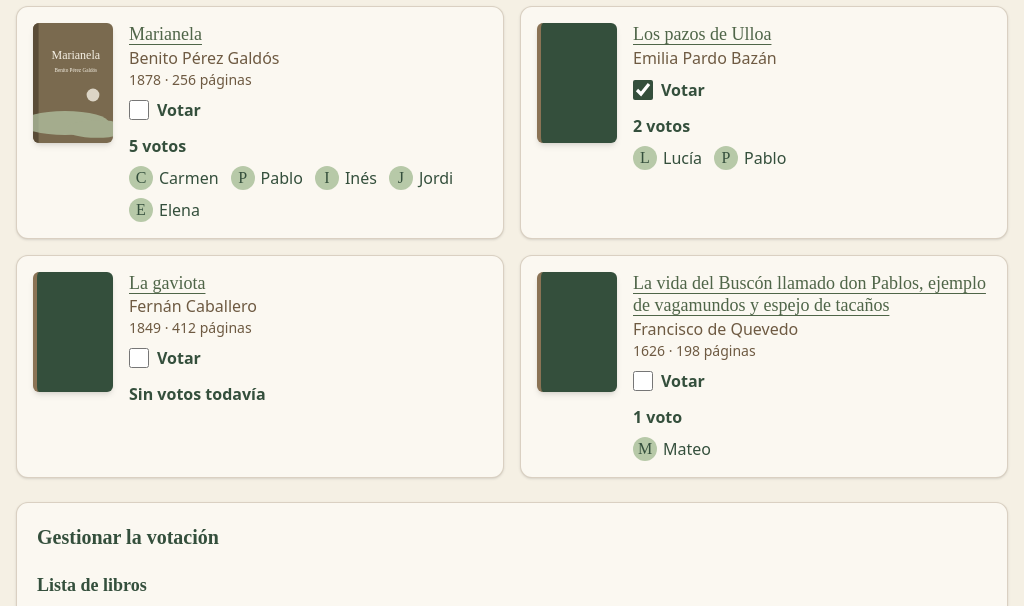
Scenario: Vote page: changing an approval › says calmly when the vote is no longer open and shows its closed state
(page scrolled)
Click the checkbox labelled "Votar" below "1849 · 412 páginas" at (139, 358), box [129, 348, 149, 368]
(page scrolled)
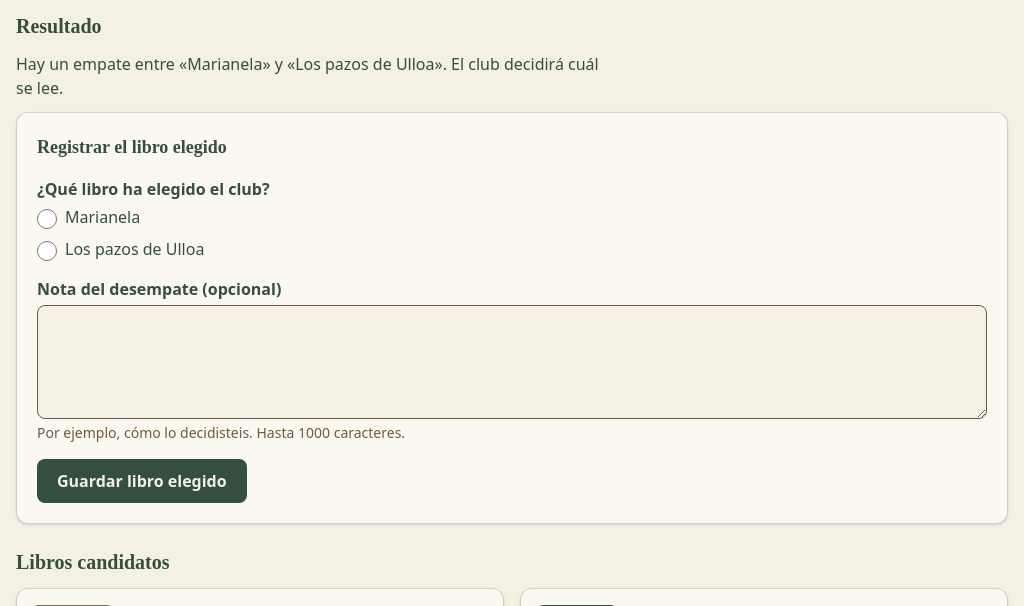
Expected: the checkbox is gone
Expected: the element "Resultado" shows "Hay un empate", [16, 53, 179, 75]
